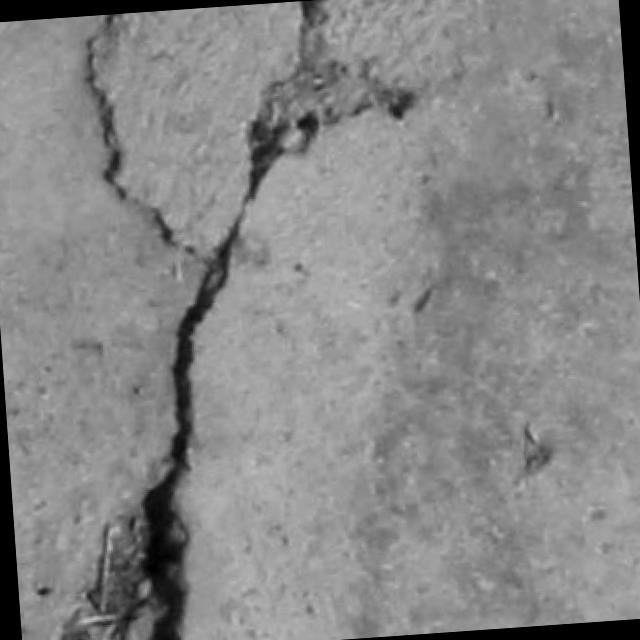crack: (141, 0, 414, 639), (141, 206, 244, 639), (84, 14, 178, 247)
